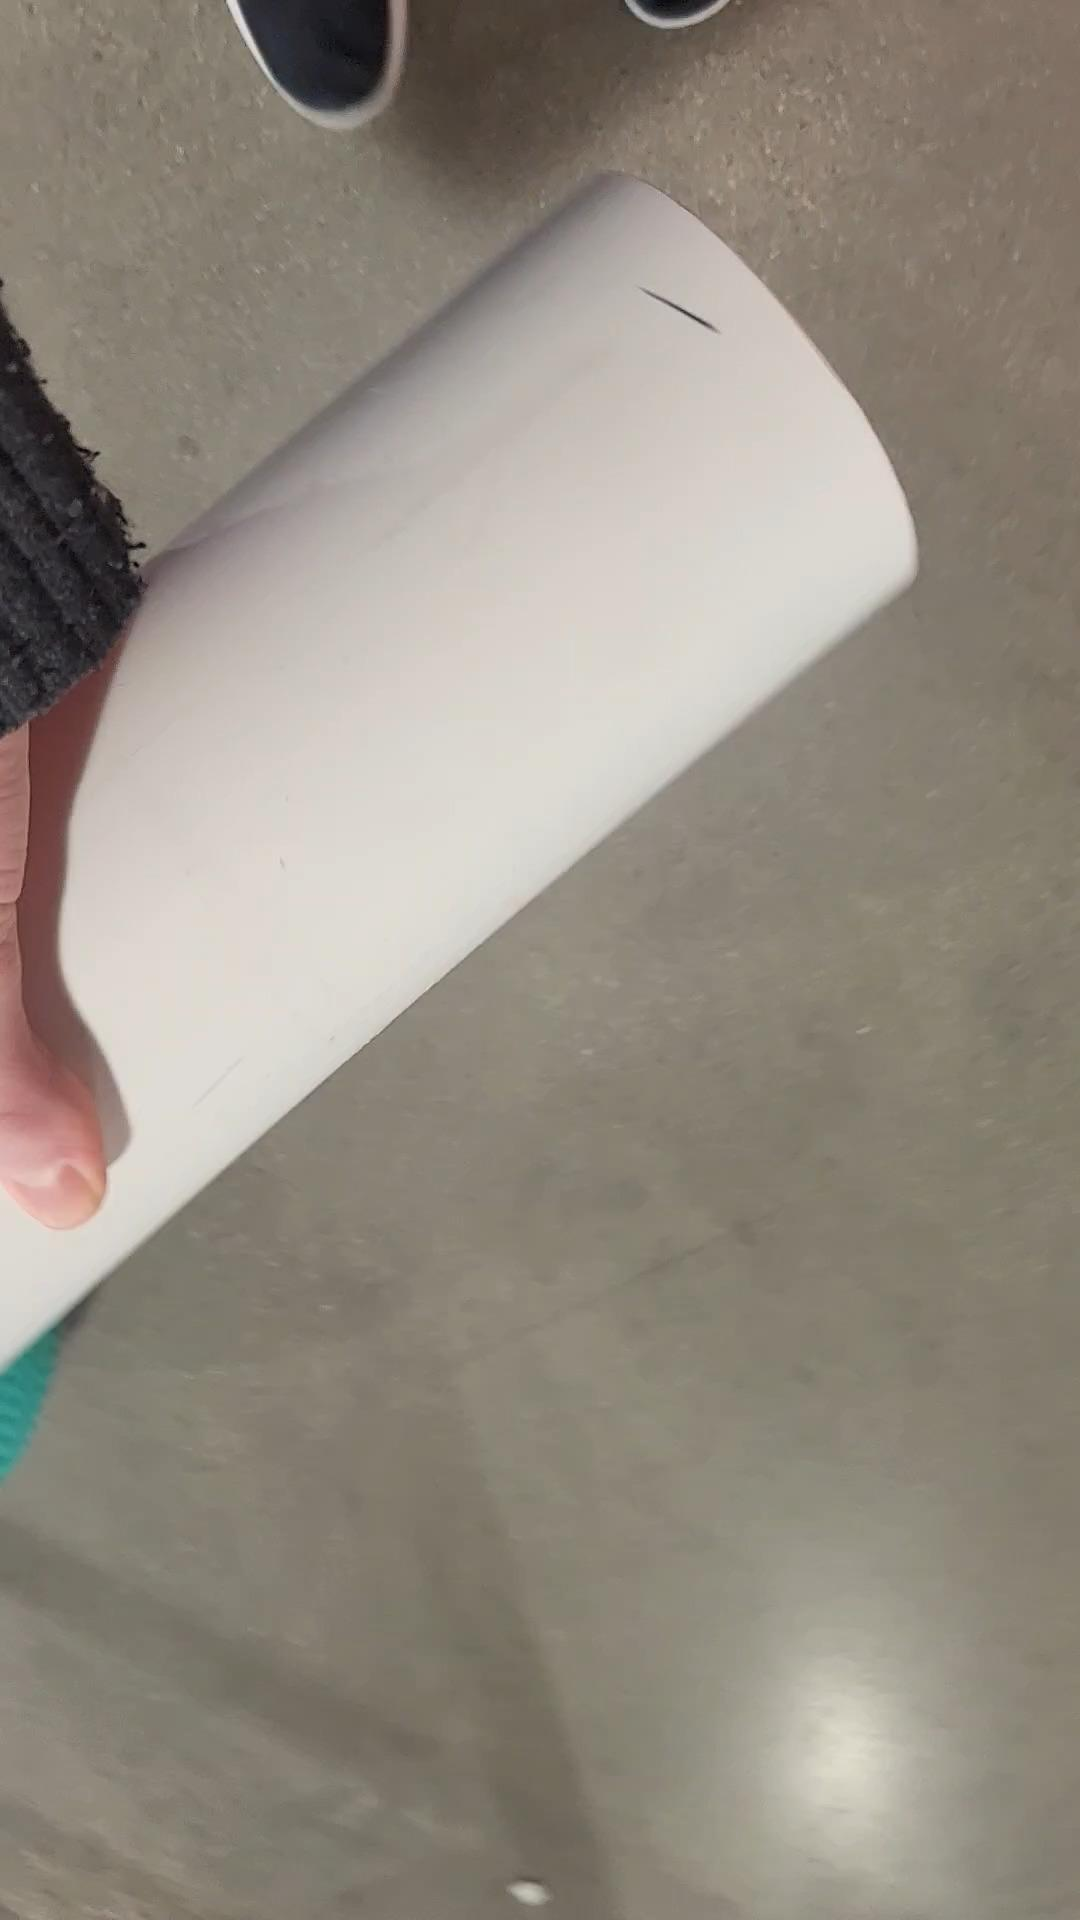coral: (0, 173, 943, 1374)
